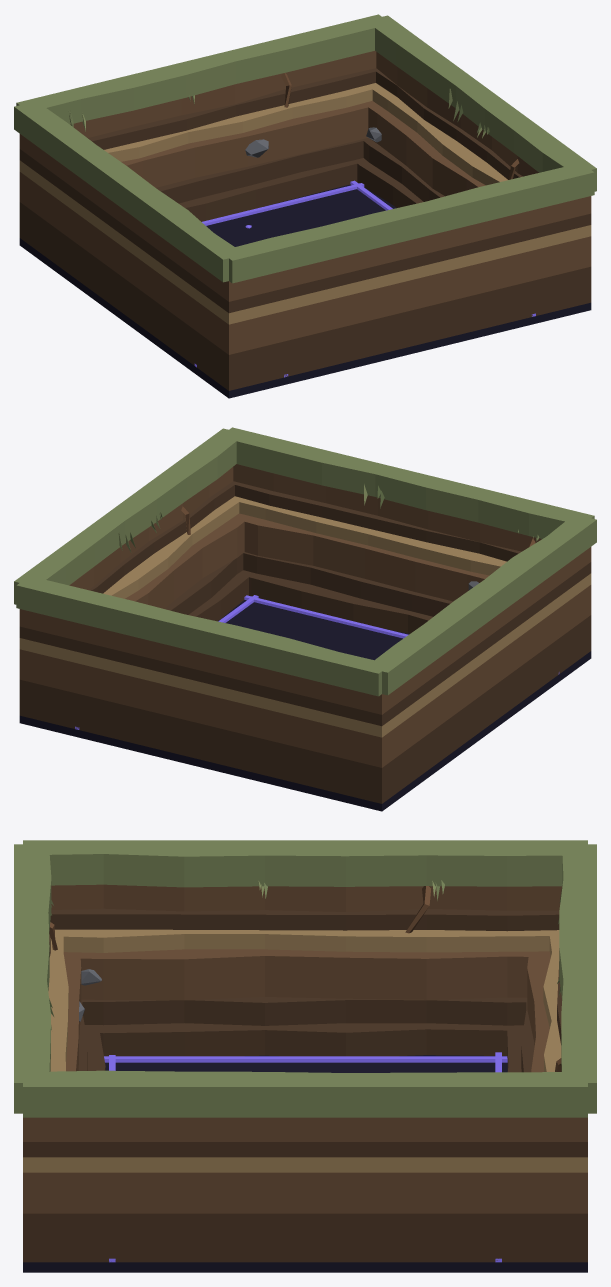
Rendered from Chasm 4.fbx.
The picture shows the model from 3 angles, top to bottom: view 1: azimuth 30°, elevation 25°; view 2: azimuth 150°, elevation 25°; view 3: azimuth 270°, elevation 25°; orthographic projection. The views are drawn at different scales.
Parts seen in each view (by area): view 1: Chasm 4; view 2: Chasm 4; view 3: Chasm 4.
Boxes of the visible parts, left/top/right/bottom form: Chasm 4: left=14, top=14, right=596, bottom=398; Chasm 4: left=14, top=427, right=596, bottom=811; Chasm 4: left=14, top=840, right=596, bottom=1272.
Bounding box in the file's own units: 1.03 × 0.37 × 1.03.
